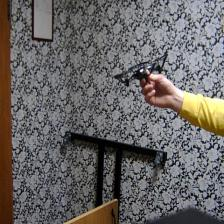drone: (109, 46, 173, 86)
